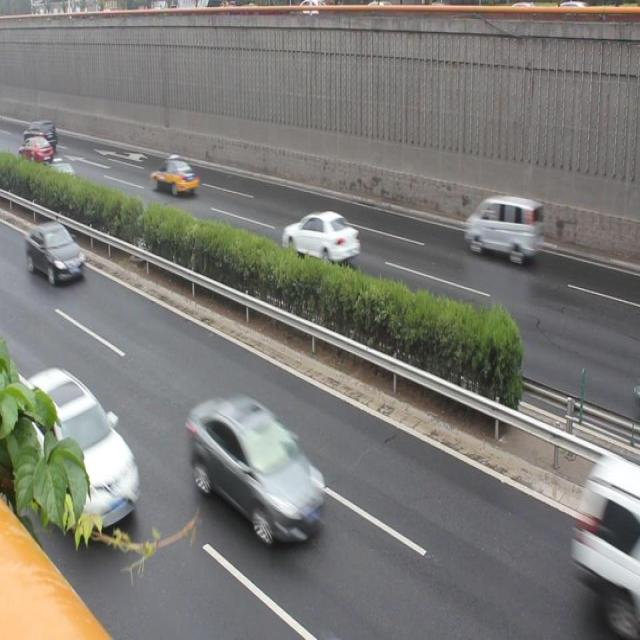car: (183, 387, 326, 548), (19, 363, 145, 524), (280, 201, 362, 274), (24, 218, 87, 282), (152, 150, 200, 200)
truck: (465, 190, 545, 263)
